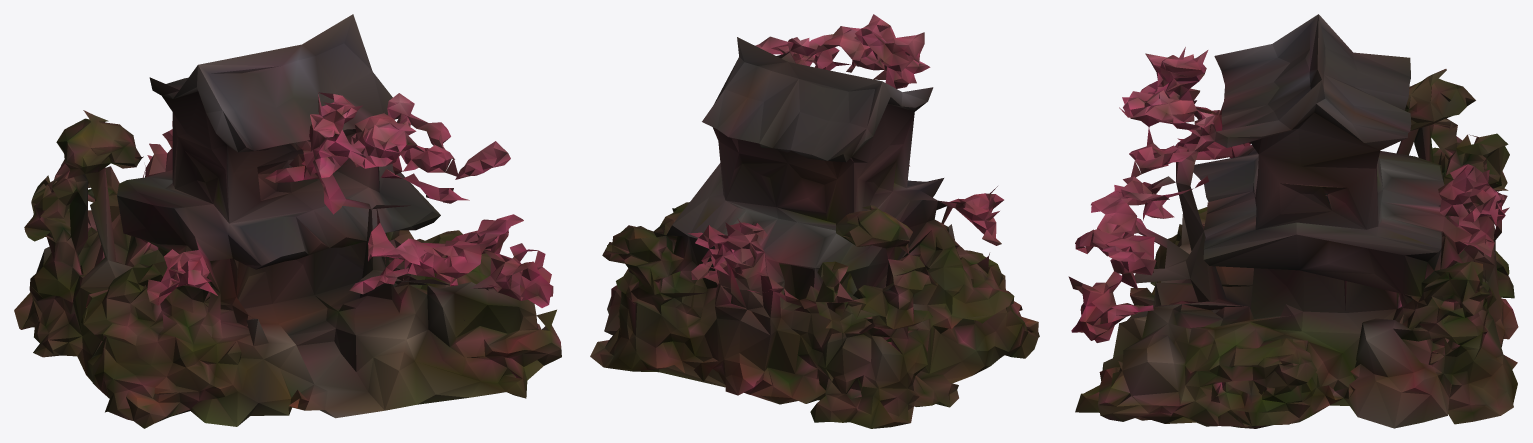
Rendered from lib_mtn_house.vc.glb.
The picture shows the model from 3 angles, left to right: view 1: azimuth 30°, elevation 25°; view 2: azimuth 150°, elevation 25°; view 3: azimuth 270°, elevation 25°; orthographic projection. The views are drawn at different scales.
Visible parts, largest first — view 1: lib_mtn_house; view 2: lib_mtn_house; view 3: lib_mtn_house.
Boxes of the visible parts, x1,y1,x2,y2 form: lib_mtn_house: (14, 14, 561, 428); lib_mtn_house: (590, 14, 1039, 428); lib_mtn_house: (1068, 14, 1518, 428).
Bounding box in the file's own units: 1.99 × 1.5 × 1.98.
